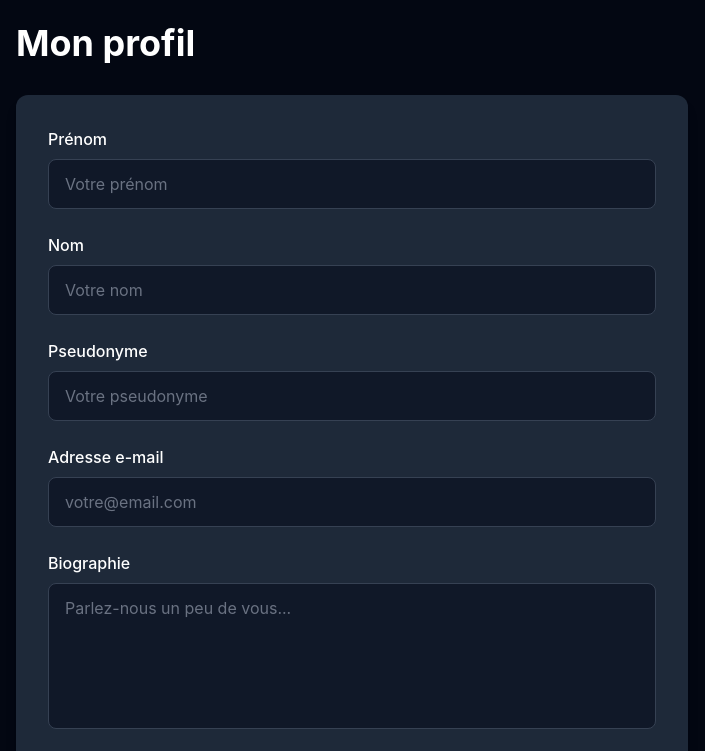
Test: Profile › affiche le message de succès si le formulaire est valide
The image size is (705, 751).
Type "Alice" into the field labelled "Prénom" at (352, 184), box [48,159,656,209]
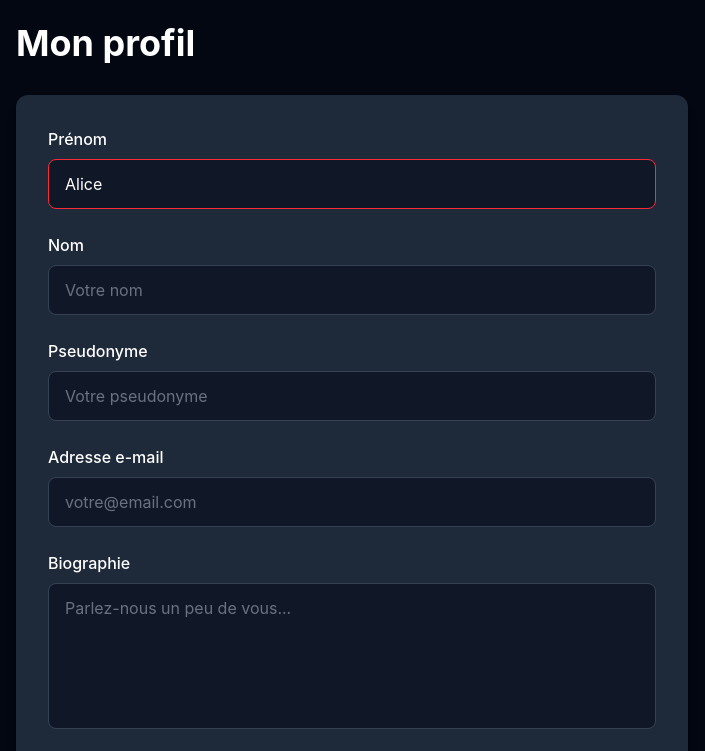
Type "Martin" into the field labelled "Nom" at (352, 290), box [48,265,656,315]
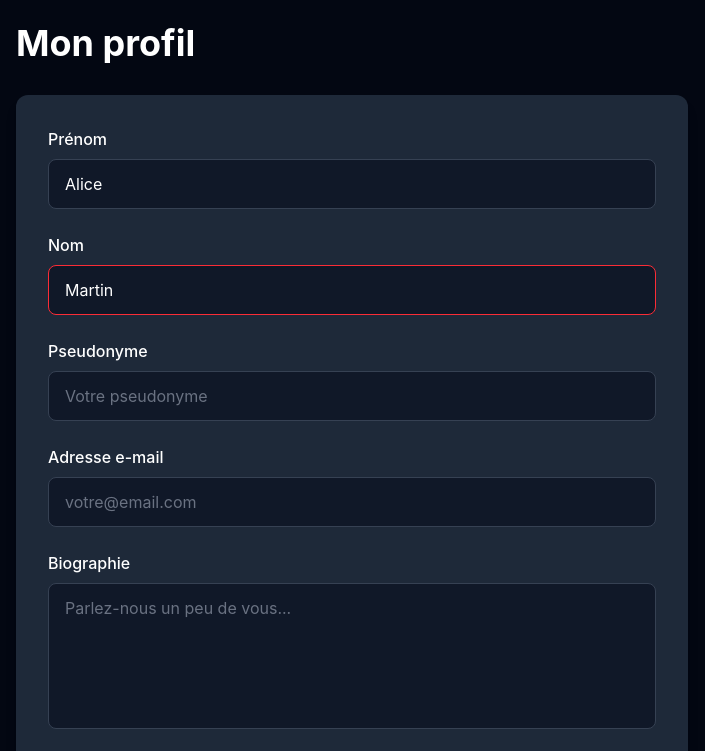
Type "alice67" into the field labelled "Pseudonyme" at (352, 396), box [48,371,656,421]
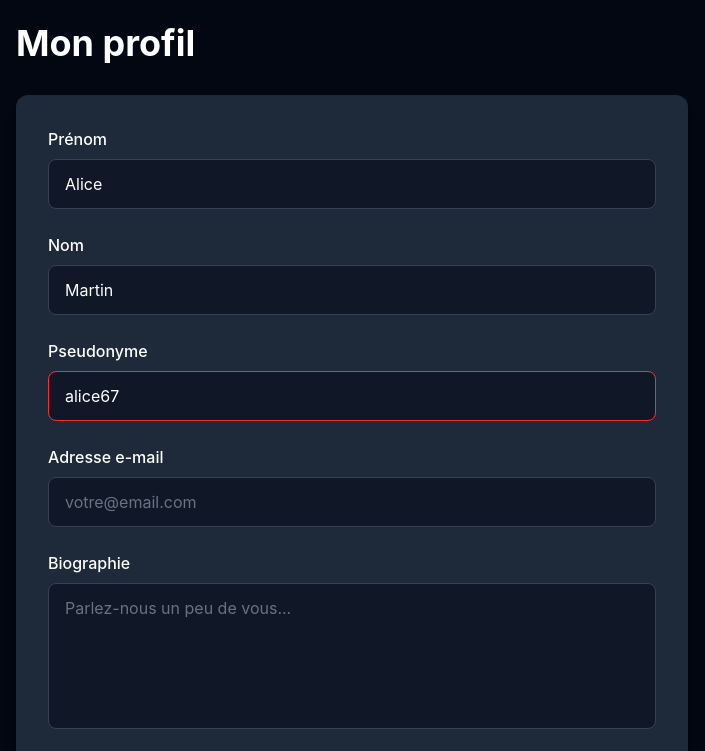
Type "alice@mail.com" into the field labelled "Adresse e-mail" at (352, 502), box [48,477,656,527]
(page scrolled)
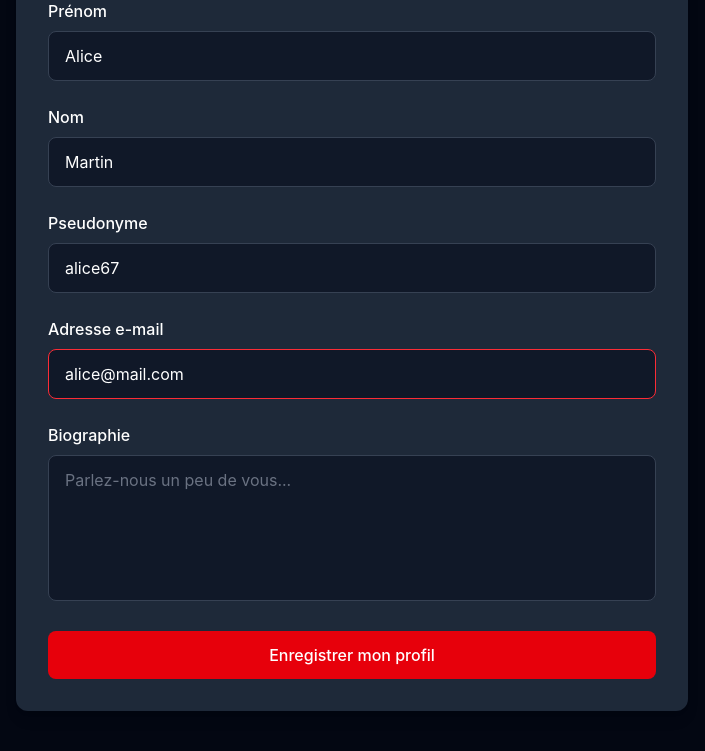
Click the button "Enregistrer mon profil" at (352, 655), box [48,631,656,679]
(page scrolled)
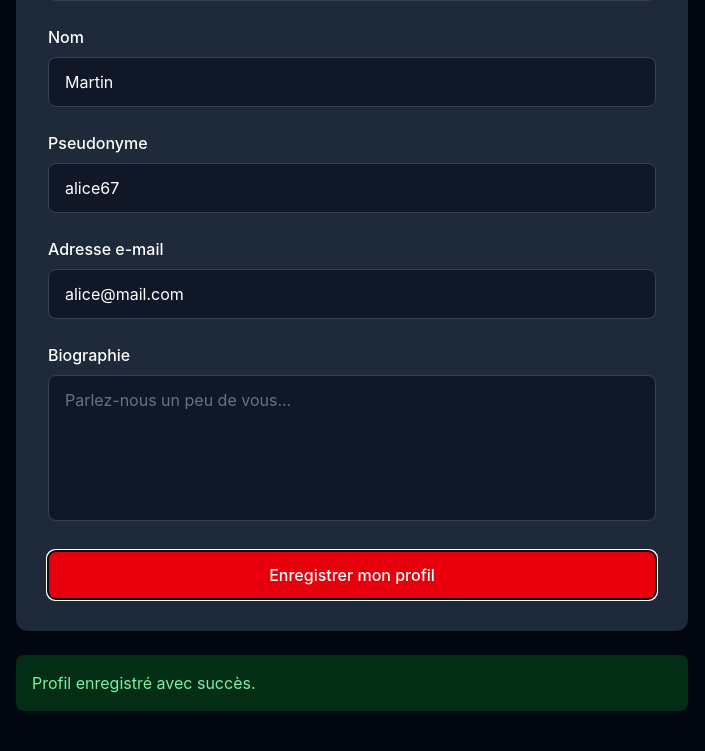
expect the text "Profil enregistré avec succès." is shown: met, box [16,655,688,711]
